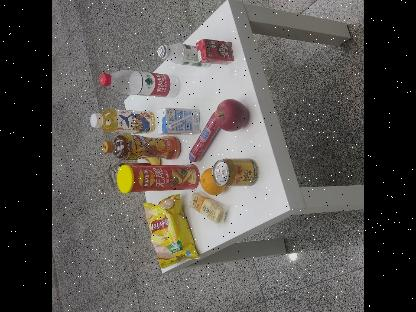Can: (212, 156, 260, 186)
Others: (116, 160, 198, 196), (156, 103, 203, 137), (196, 35, 236, 69)
Plastic Bottle: (99, 68, 182, 96), (158, 42, 203, 66)
